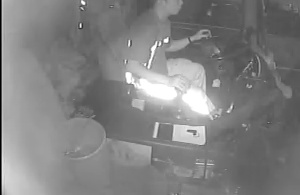paper: (151, 119, 207, 147)
